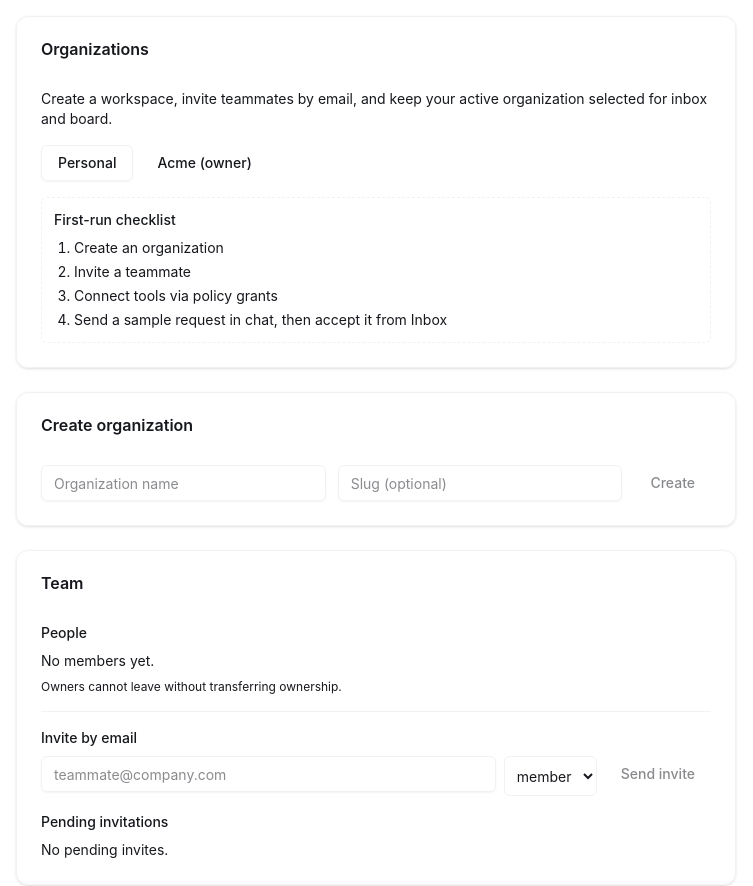
OrganizationsPage › invites a teammate by email for the active organization
In the field with test id "organization-invite-email": point(268, 774) x1=41 y1=756 x2=496 y2=792, type "alex@acme.com"
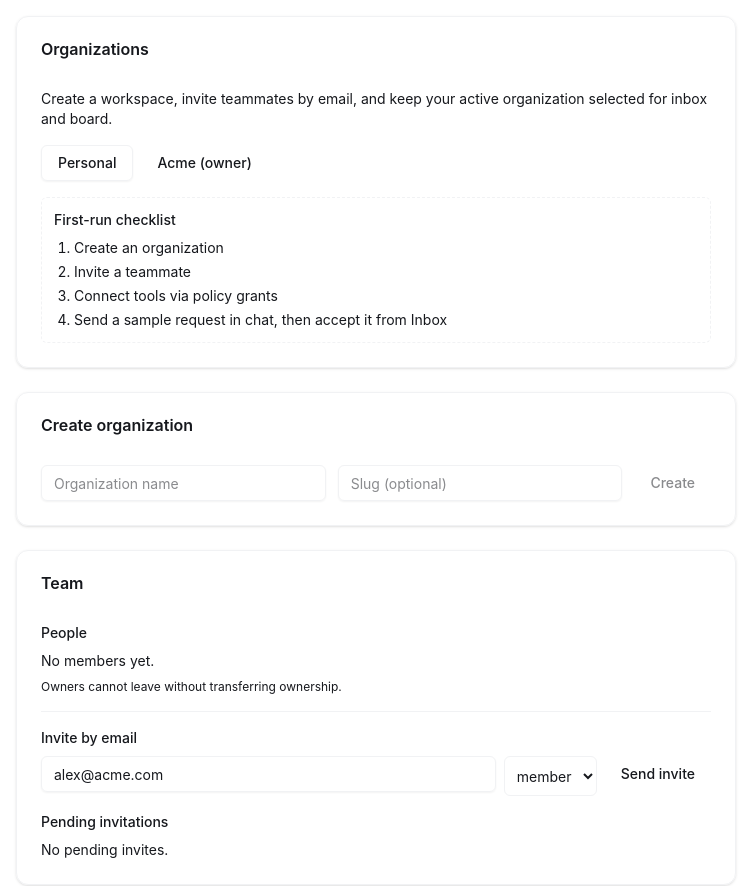
Click the button with test id "organization-invite": point(658, 774) x1=605 y1=756 x2=711 y2=792
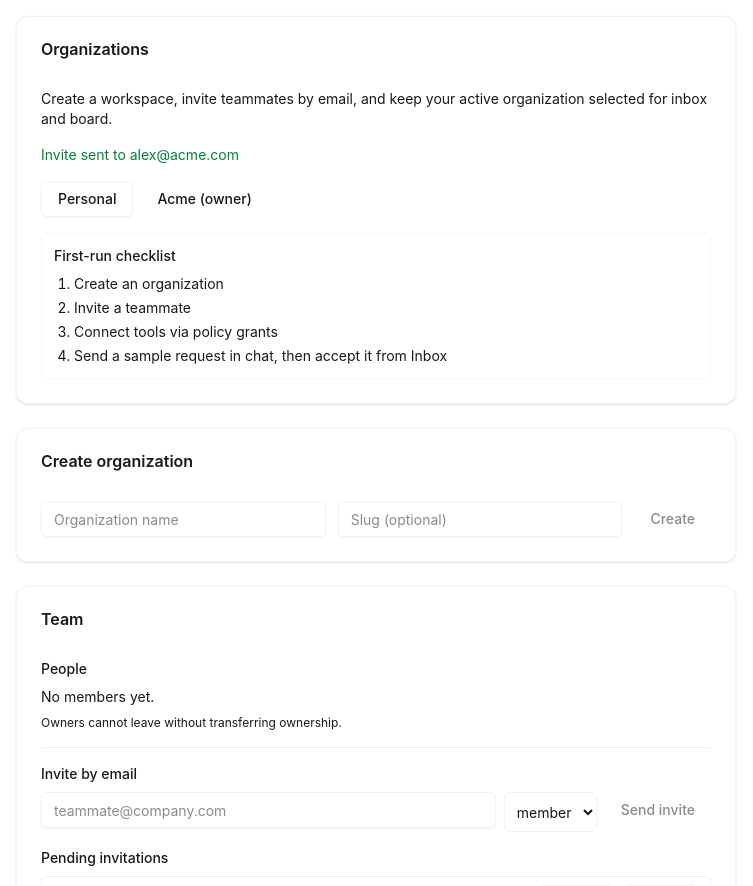
Now the text "Invite sent to alex@acme.com" is shown, box x1=41 y1=146 x2=239 y2=163
